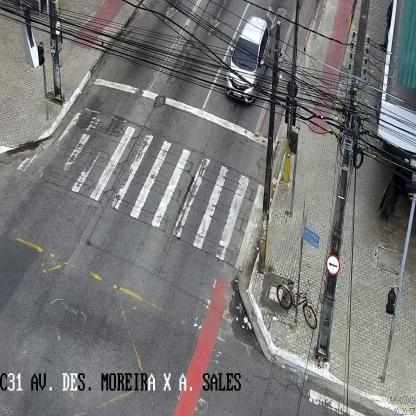bicycle: (276, 279, 316, 328)
car: (225, 15, 270, 105)
